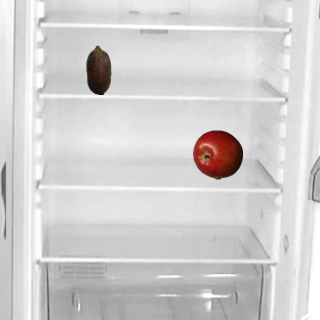Apple Braeburn: (192, 129, 242, 179)
Nut Pecan: (73, 44, 123, 94)
